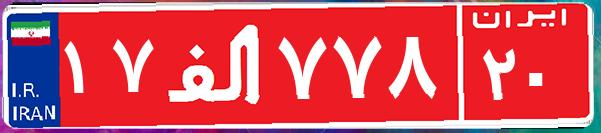0: (525, 38, 570, 115)
1: (57, 26, 110, 107)
2: (475, 38, 525, 113)
7: (273, 28, 330, 110), (330, 28, 385, 110), (110, 28, 158, 105)
8: (385, 28, 445, 110)
الف: (158, 15, 273, 115)
